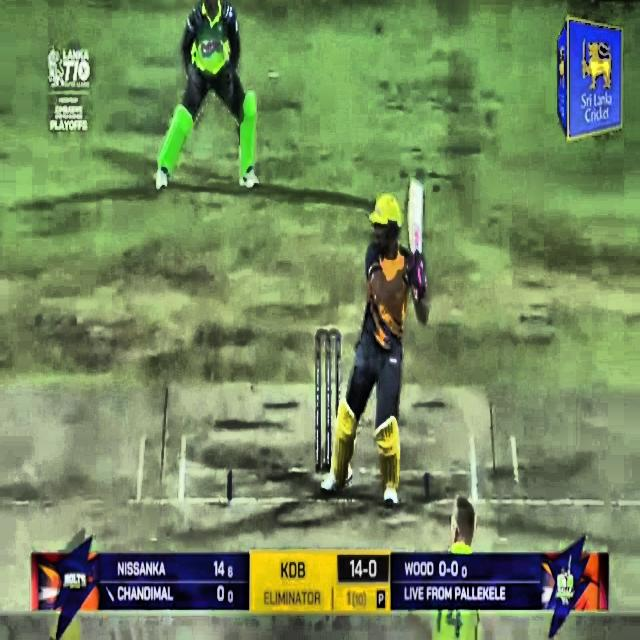Left-stump: (316, 337, 320, 467)
Middle-stump: (325, 337, 332, 466)
